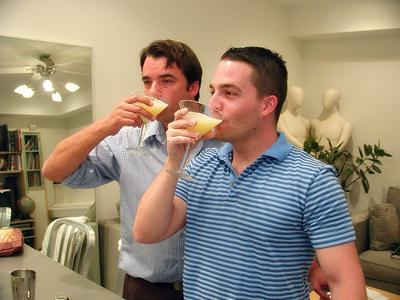person: (132, 46, 369, 300)
